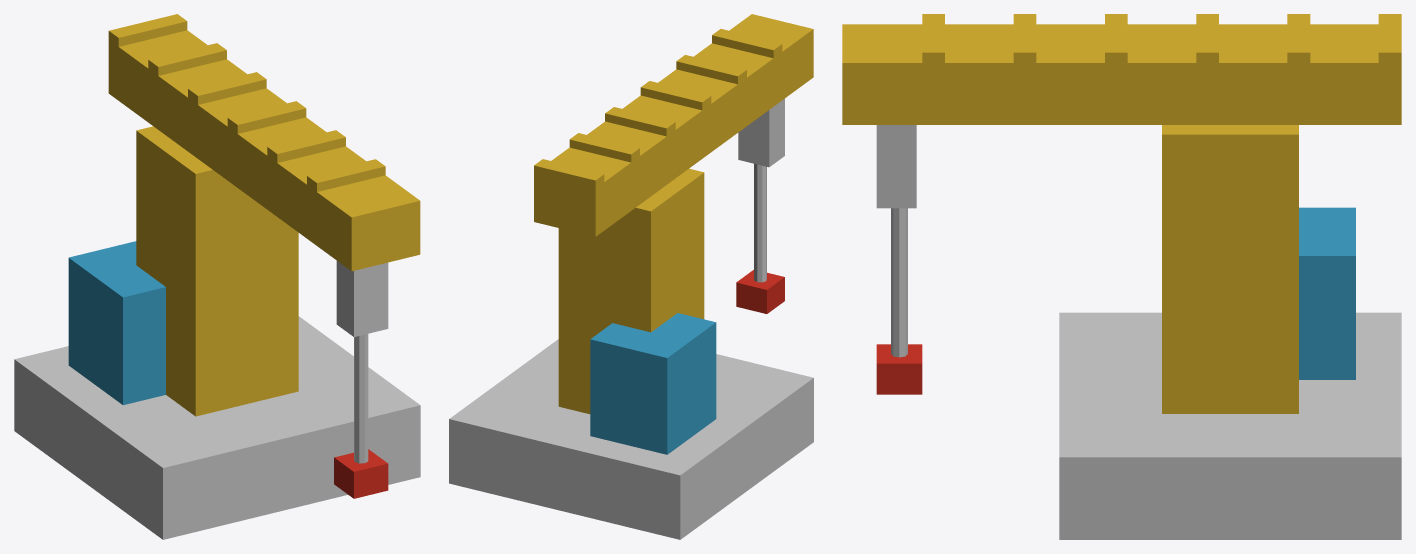
Rendered from loading_crane.obj.
The picture shows the model from 3 angles, left to right: view 1: azimuth 30°, elevation 25°; view 2: azimuth 150°, elevation 25°; view 3: azimuth 270°, elevation 25°; orthographic projection. The views are drawn at different scales.
Parts seen in each view (by area): view 1: loading_crane; view 2: loading_crane; view 3: loading_crane.
Boxes of the visible parts, x1,y1,x2,y2 form: loading_crane: [14, 14, 420, 539]; loading_crane: [449, 14, 813, 539]; loading_crane: [842, 14, 1401, 539].
Bounding box in the file's own units: 0.6 × 0.84 × 0.98.
